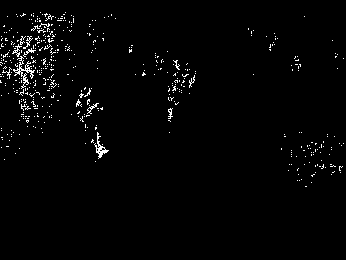person: (76, 87, 109, 161)
